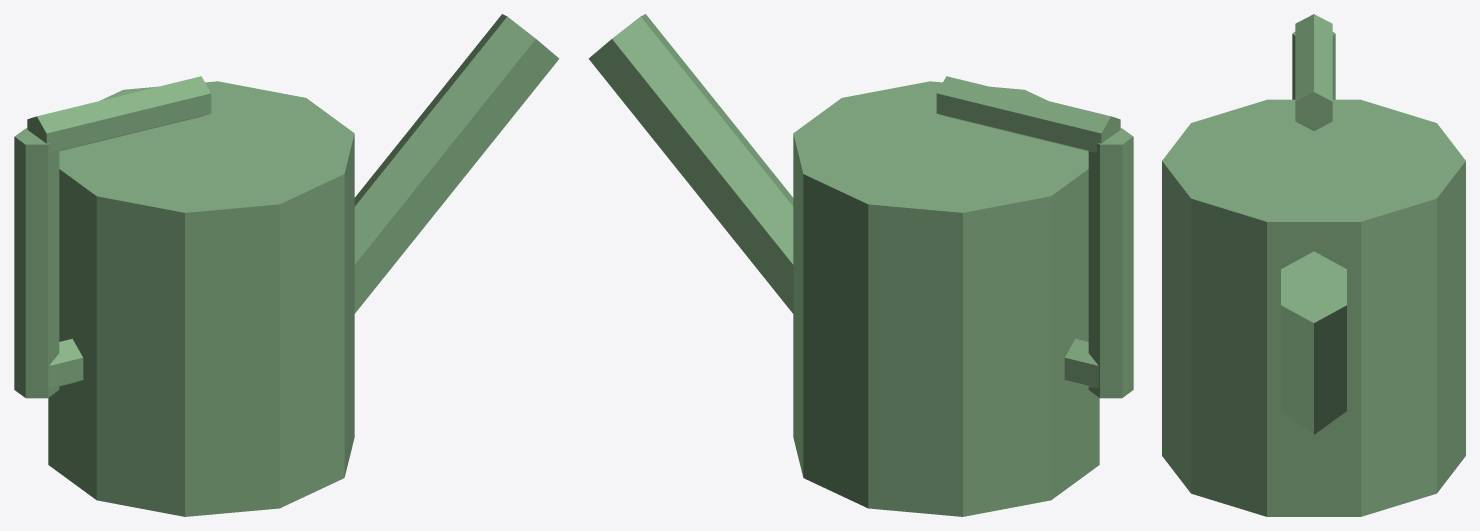
3 renders of one model, left to right at view 1: azimuth 30°, elevation 25°; view 2: azimuth 150°, elevation 25°; view 3: azimuth 270°, elevation 25°, orthographic. The views are drawn at different scales.
Parts seen in each view (by area): view 1: Can, Spout, Handle, Handle top, Handle lower bridge; view 2: Can, Spout, Handle, Handle top, Handle lower bridge; view 3: Can, Spout, Handle top, Handle.
Part boxes in pixels (x1,y1,x2,y2): Can: (48, 81, 354, 516); Spout: (354, 14, 559, 313); Handle: (14, 128, 59, 398); Handle top: (27, 76, 211, 152); Handle lower bridge: (49, 338, 83, 388); Can: (793, 81, 1099, 516); Spout: (588, 14, 793, 313); Handle: (1088, 128, 1133, 398); Handle top: (936, 76, 1120, 152); Handle lower bridge: (1064, 338, 1098, 388); Can: (1162, 99, 1465, 516); Spout: (1281, 251, 1346, 434); Handle top: (1295, 14, 1332, 130); Handle: (1292, 32, 1335, 99).
Bounding box in the file's own units: 0.5515 × 0.37 × 0.28.
1 material, 1 textured.
